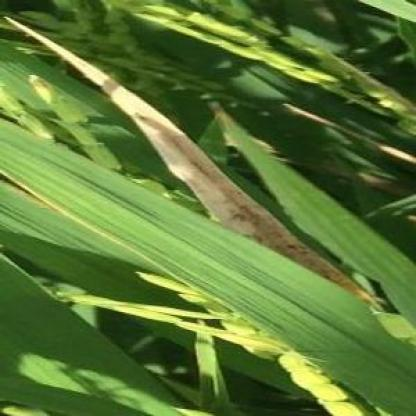Blight: (1, 18, 416, 416)
